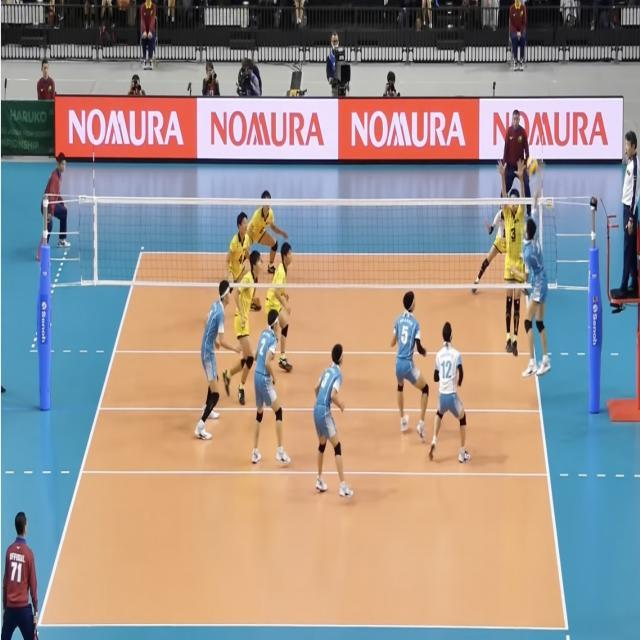spike: (516, 153, 558, 384)
